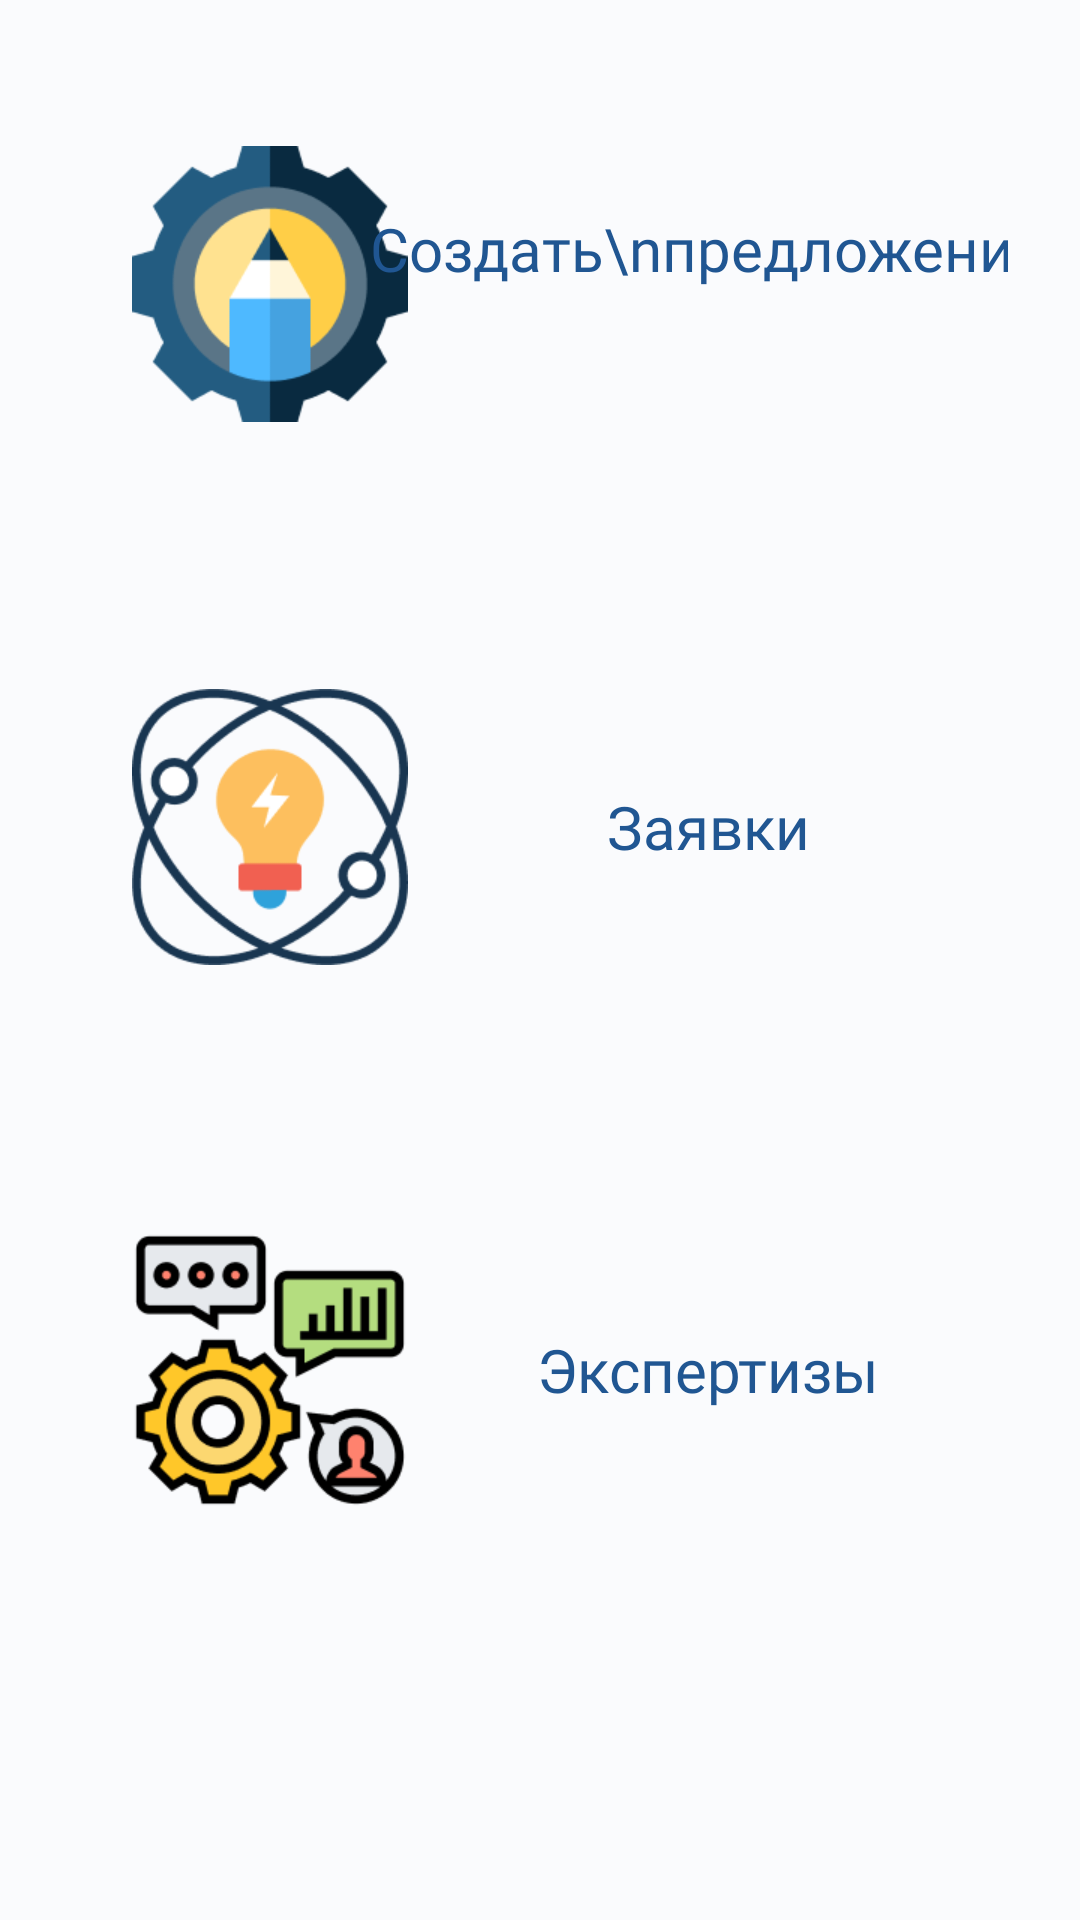

Icon bounding boxes for this 1080w x 1920h phone screenshot, format (x1, y1, x2, y2):
idea: (132, 689, 408, 965)
skills: (135, 1235, 405, 1505)
